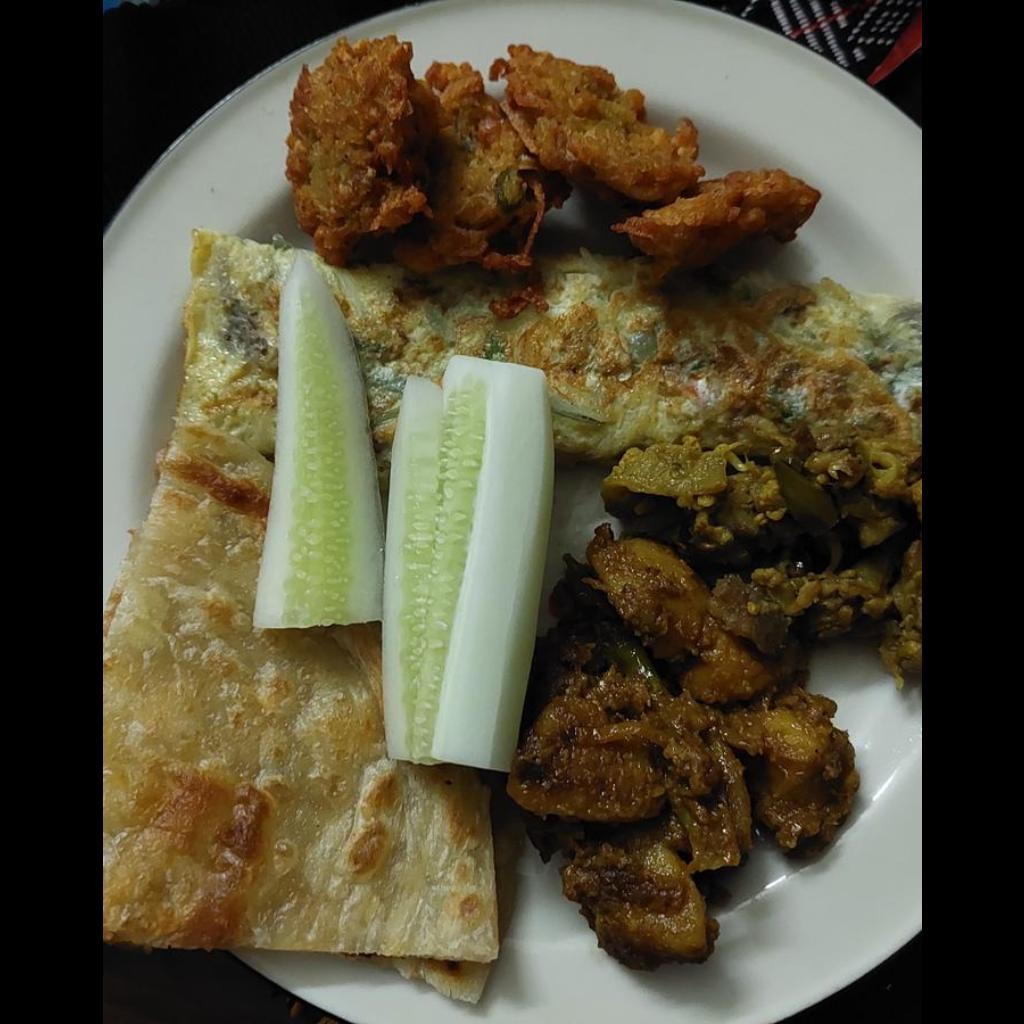cucumber: (253, 251, 545, 767)
egg-poached: (352, 263, 918, 450), (174, 233, 292, 454)
piyaju: (288, 36, 825, 281)
ruti: (103, 420, 492, 1007)
vaji: (602, 429, 920, 687)
vegetable: (510, 539, 854, 954)
